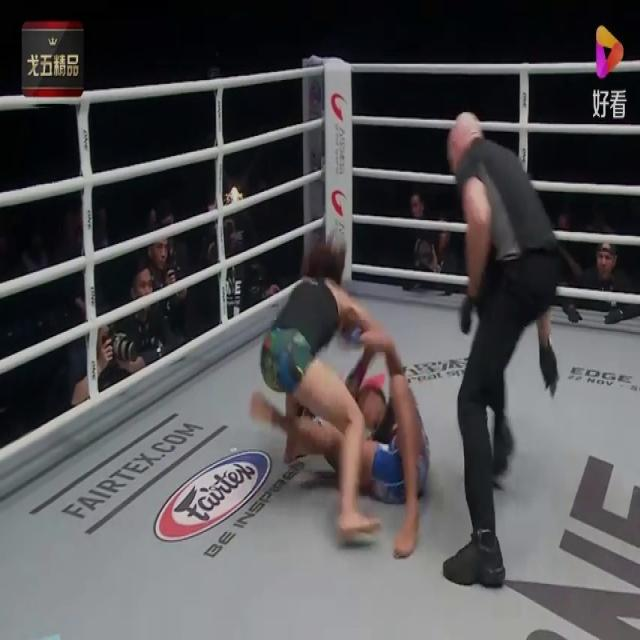fight: (244, 232, 439, 560)
non-fight: (412, 96, 602, 589)
